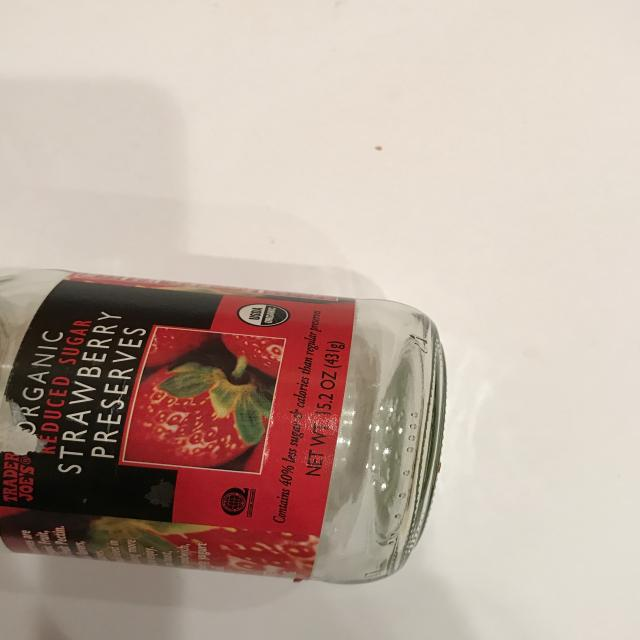glass: (0, 244, 475, 606)
